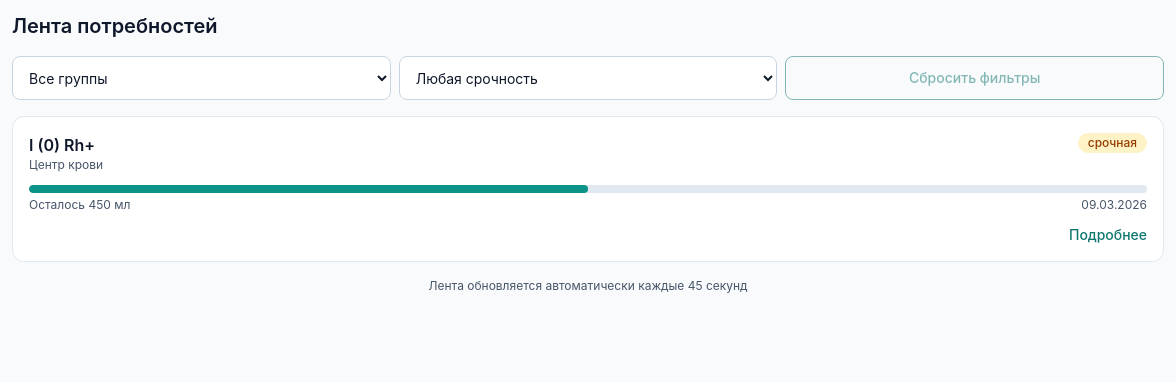
Test: FeedPage — фильтры и пустое состояние › пустой результат по фильтру: «Ничего не найдено» + «Сбросить фильтры» (FR-3.2)
This screenshot has width=1176, height=382.
Check: the text "I (0) Rh+" is shown, box [29, 133, 103, 157]
Select "IV (AB)" in the dropdown named "Фильтр по группе крови". click: {"x": 201, "y": 78}
box: [12, 56, 391, 100]
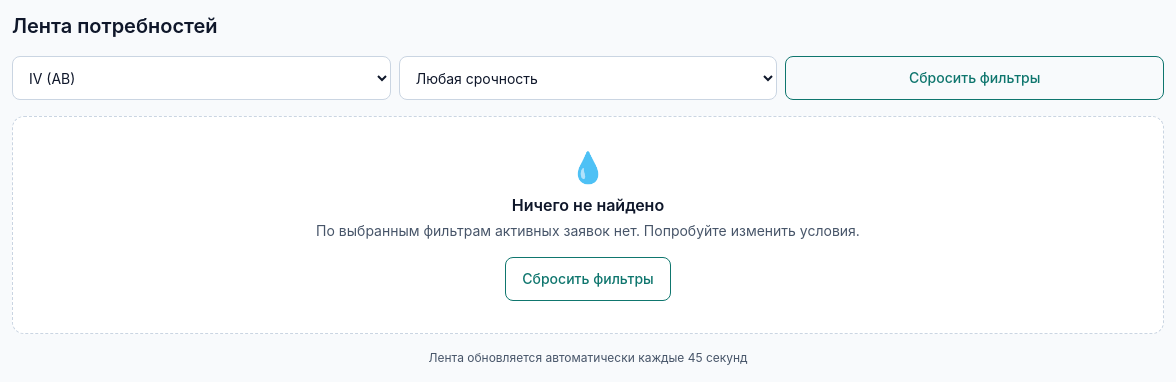
Check: the heading "Ничего не найдено" is shown, box [512, 195, 664, 215]
Click the button "Сбросить фильтры" below "Ничего не найдено". click: {"x": 588, "y": 279}
box: [505, 257, 671, 301]
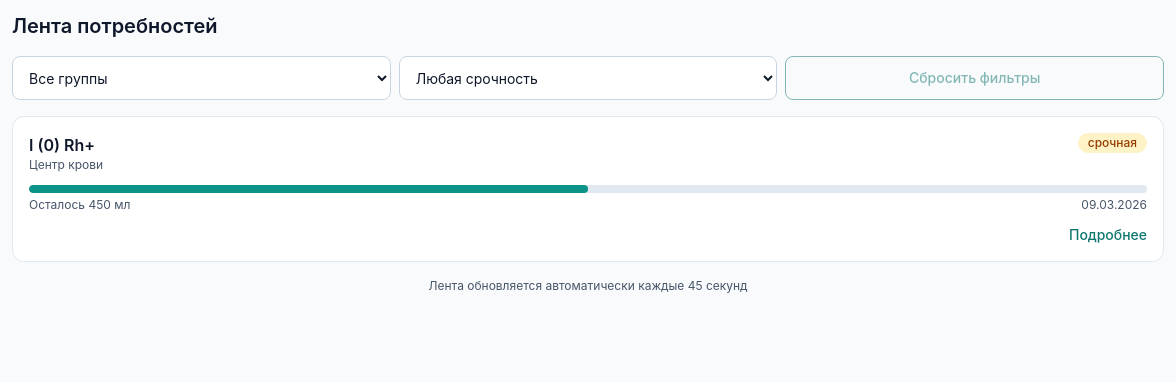
Check: the text "I (0) Rh+" is shown, box [29, 133, 103, 157]
